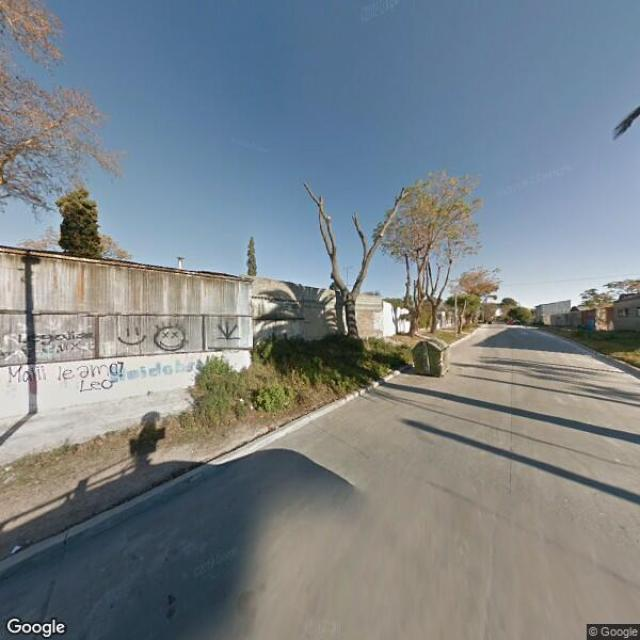garbage container: (409, 335, 459, 388)
